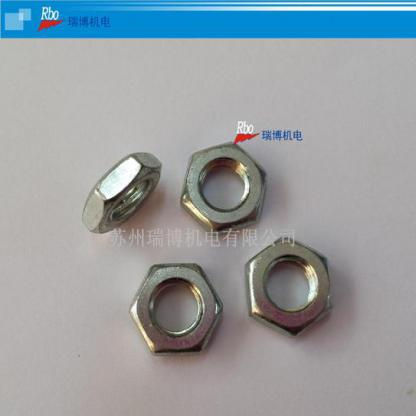FOD: (242, 236, 335, 341), (128, 260, 224, 357), (177, 141, 269, 239), (79, 148, 163, 236)
